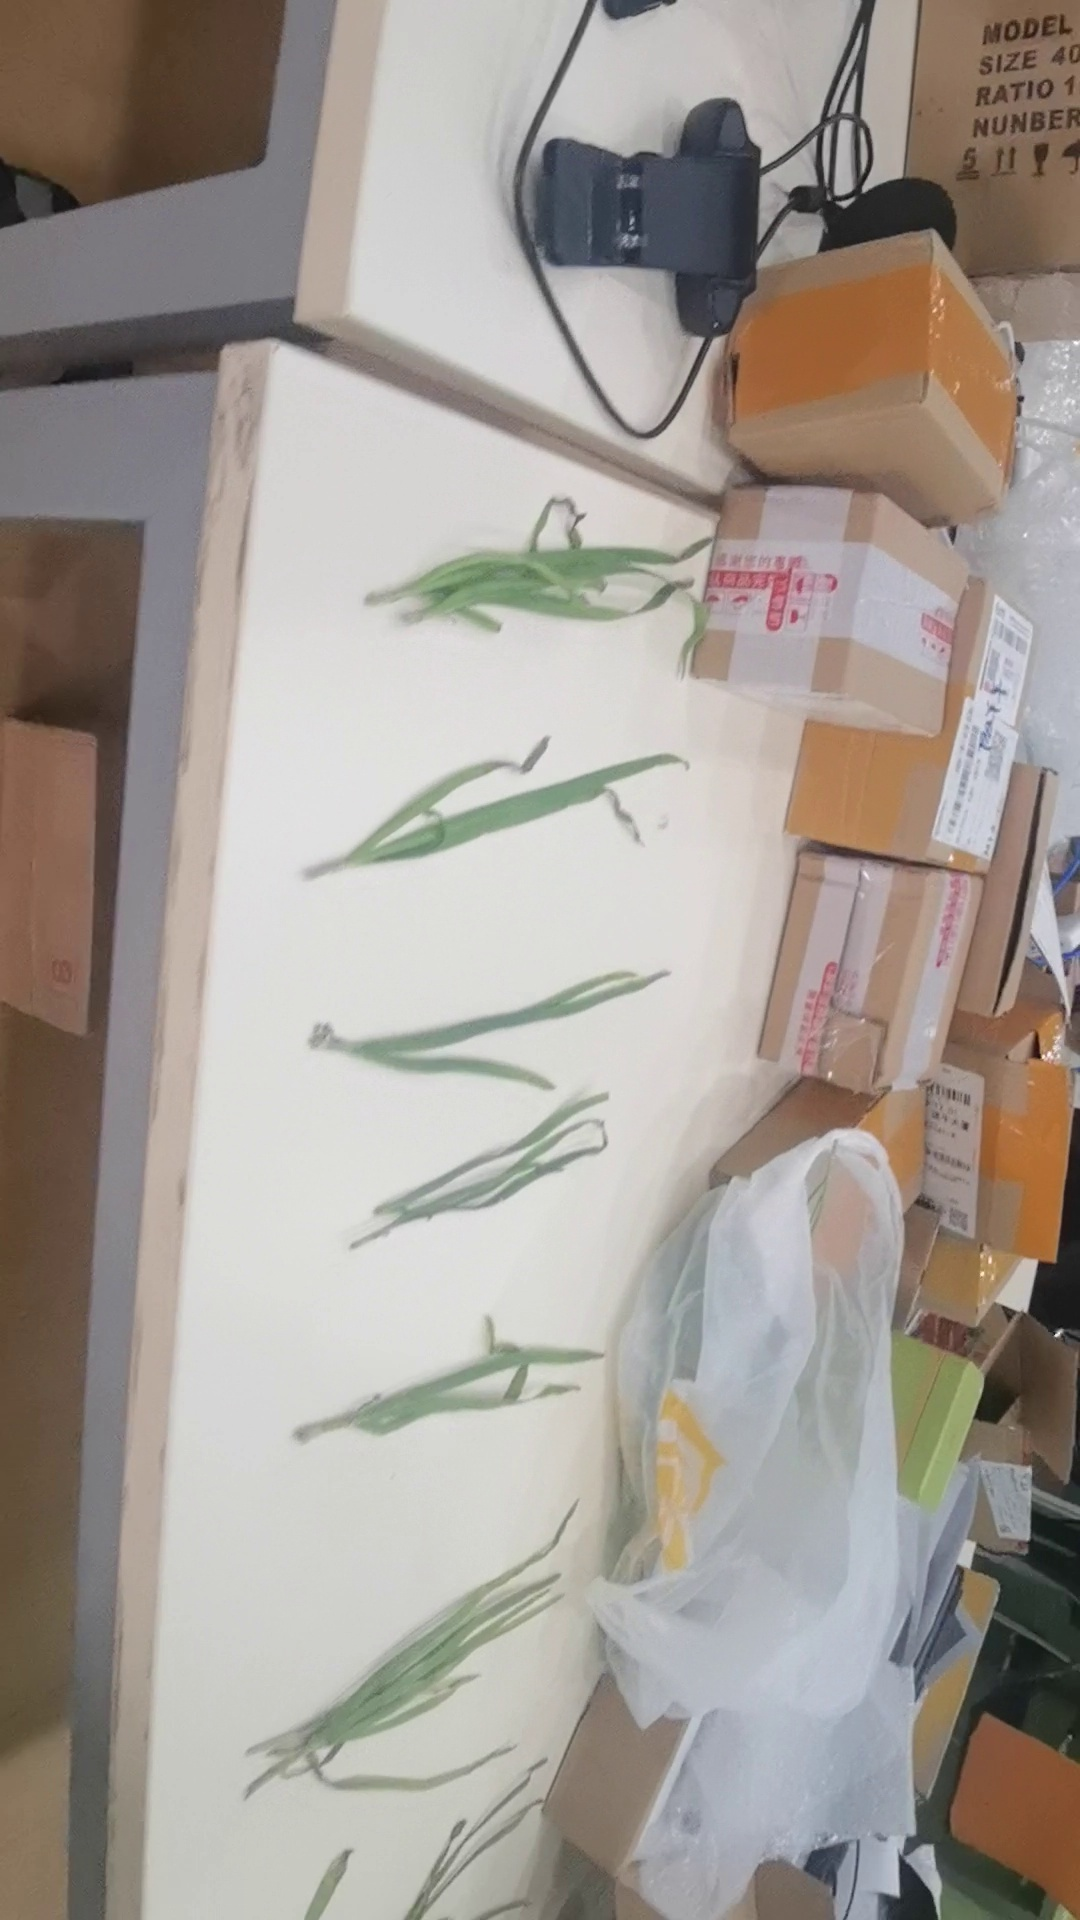chives: (189, 1527, 694, 1785), (276, 698, 771, 902), (349, 498, 724, 658), (291, 957, 704, 1096), (287, 1335, 661, 1439), (367, 1112, 644, 1244), (281, 1821, 620, 1920)
